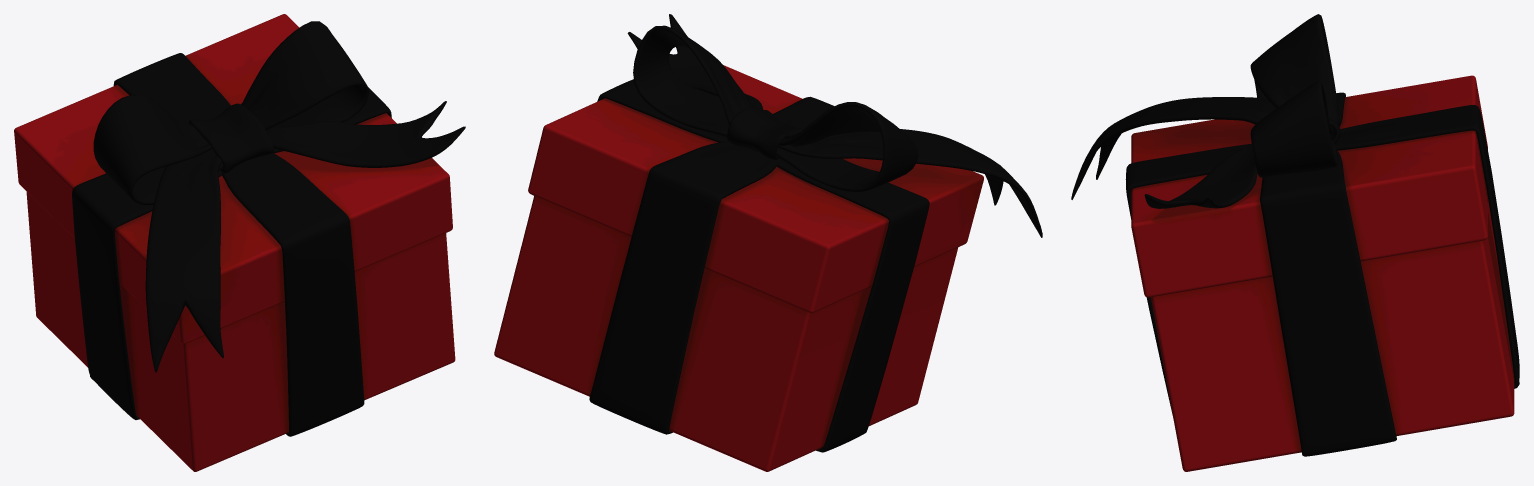
File: gift.fbx
The picture shows the model from 3 angles, left to right: view 1: azimuth 30°, elevation 25°; view 2: azimuth 150°, elevation 25°; view 3: azimuth 270°, elevation 25°; orthographic projection. The views are drawn at different scales.
Visible parts, largest first — view 1: node_id200; view 2: node_id200; view 3: node_id200.
Part boxes in pixels (x1,y1,x2,y2): node_id200: (14, 14, 465, 471); node_id200: (494, 14, 1042, 471); node_id200: (1071, 14, 1519, 471).
Bounding box in the file's own units: 1.15 × 1.15 × 1.18.
Materials: 1 (1 with a texture image).
